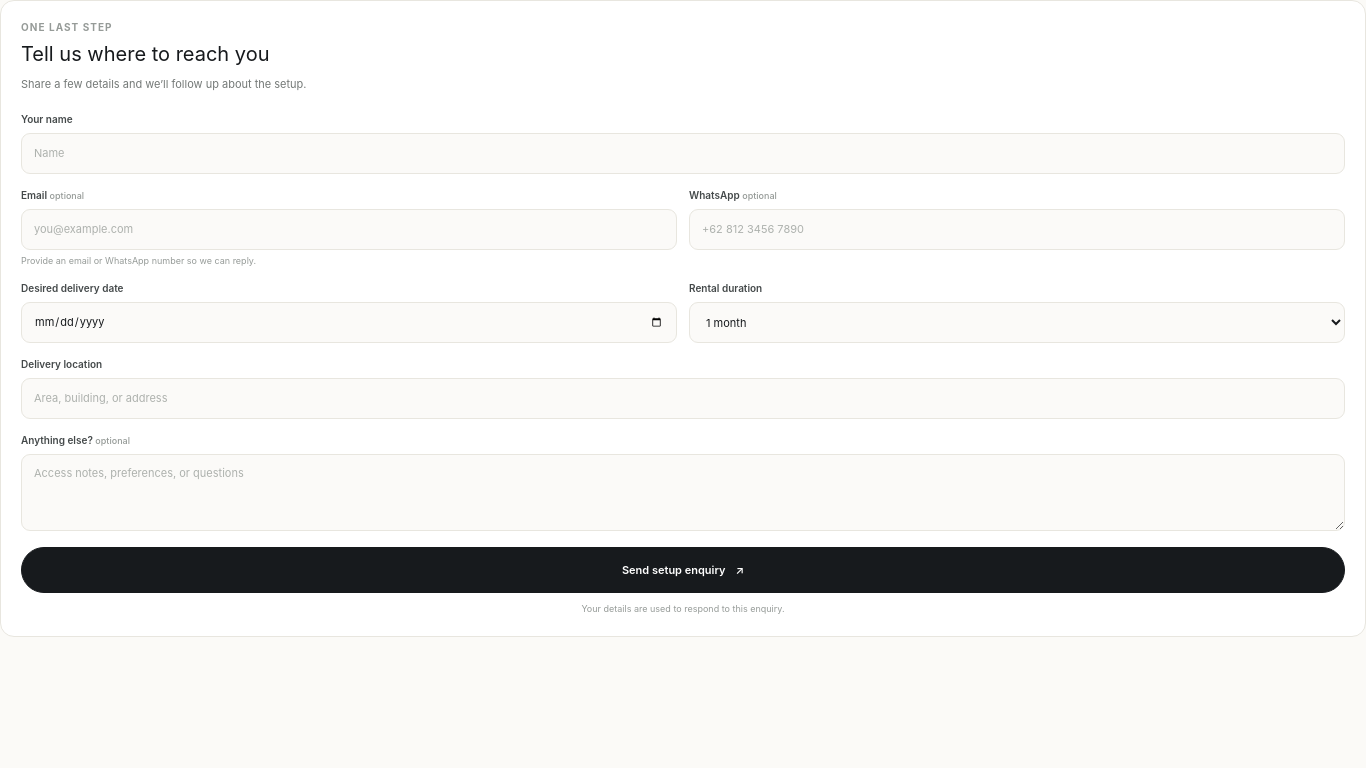
EnquiryForm › sends the enquiry and displays a confirmation
Type "Casey Example" into the field labelled "Your name".
click(683, 153); type("Casey Example")  # box left=21, top=132, right=1345, bottom=174
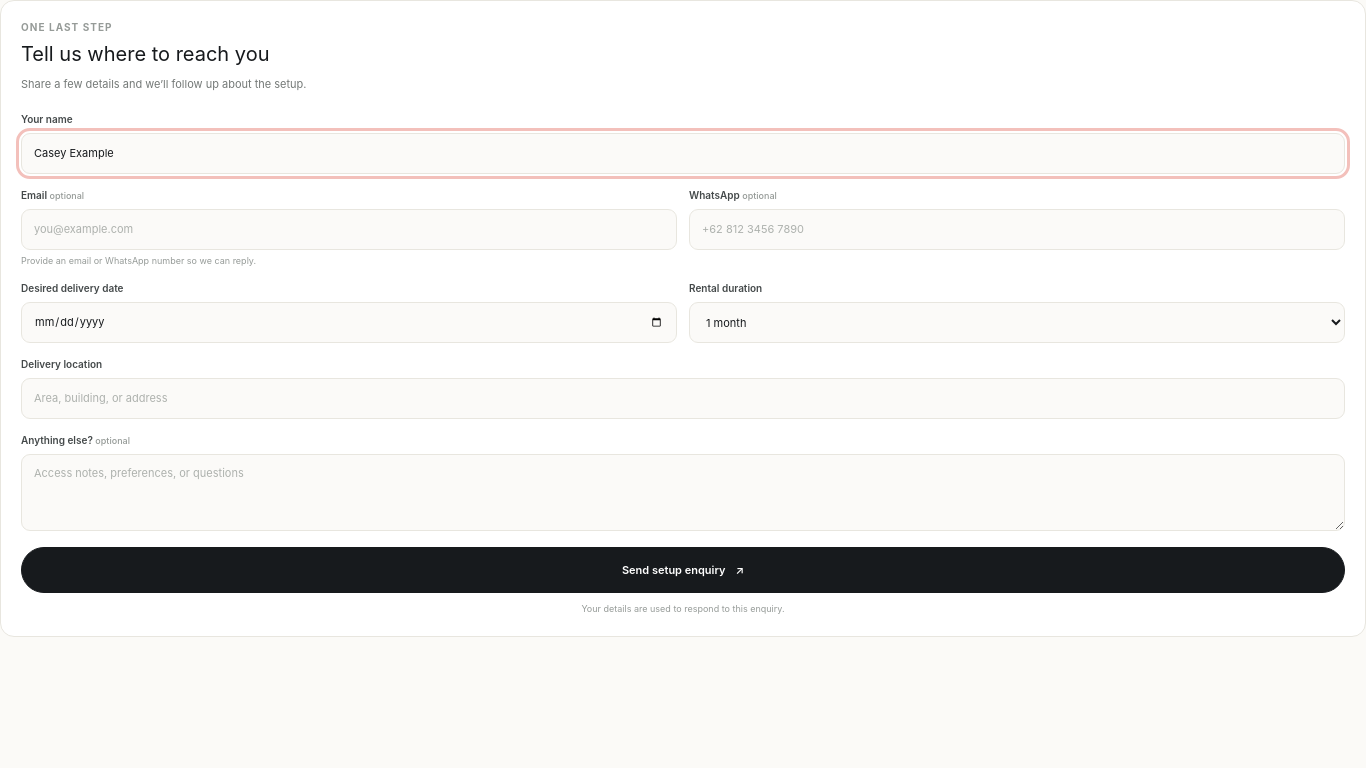
Type "casey@example.com" into the field labelled "Email optional".
click(349, 229); type("casey@example.com")  # box left=21, top=208, right=677, bottom=250
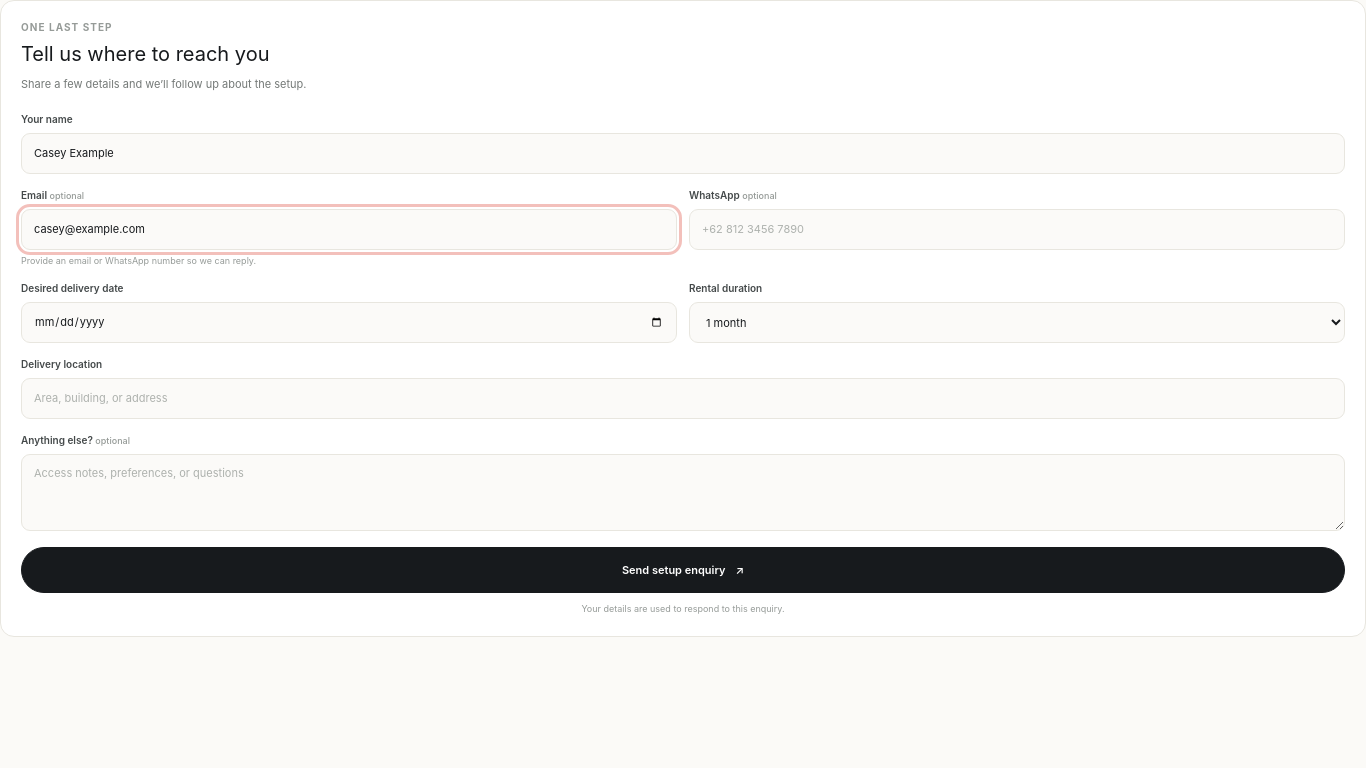
Type "2030-01-10" into the date field labelled "Desired delivery date".
click(349, 322); type("2030-01-10")  # box left=21, top=302, right=677, bottom=343
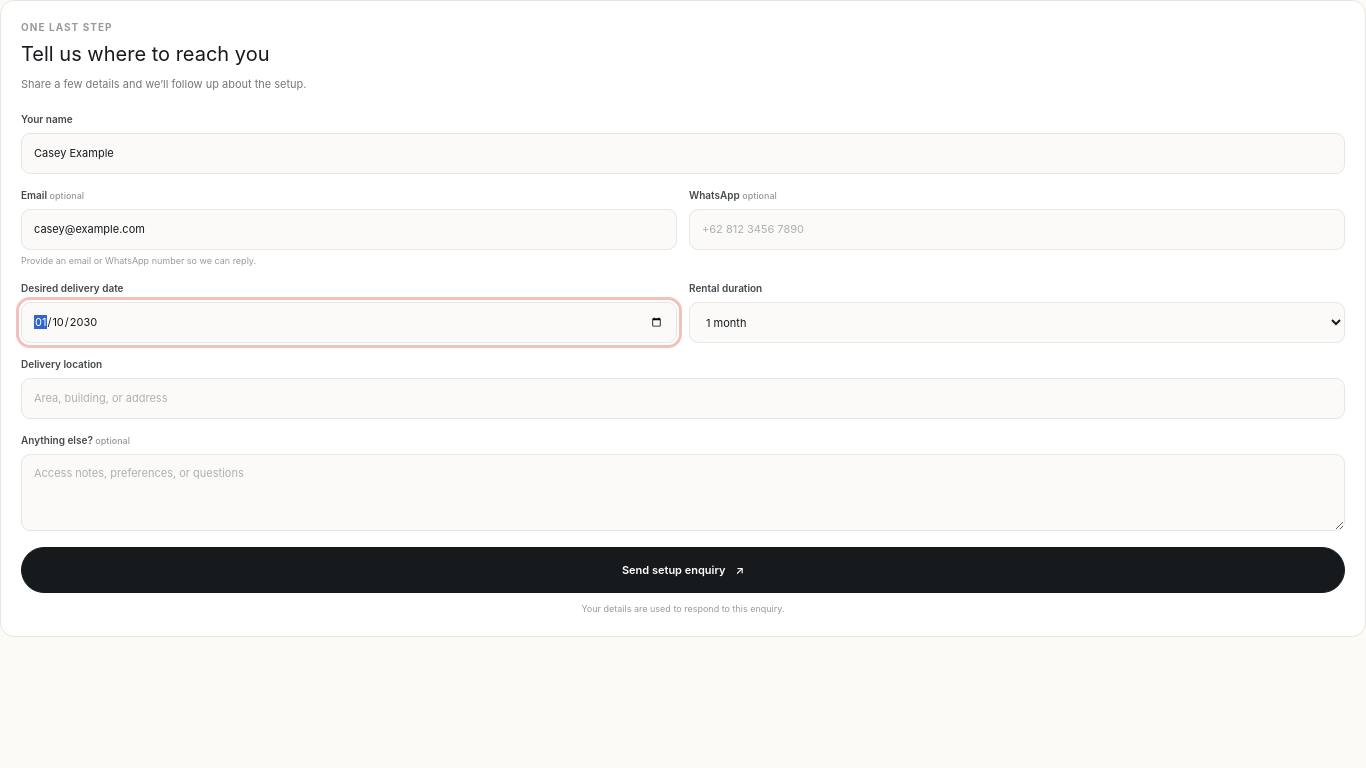
Type "Central district" into the field labelled "Delivery location".
click(683, 398); type("Central district")  # box left=21, top=378, right=1345, bottom=419
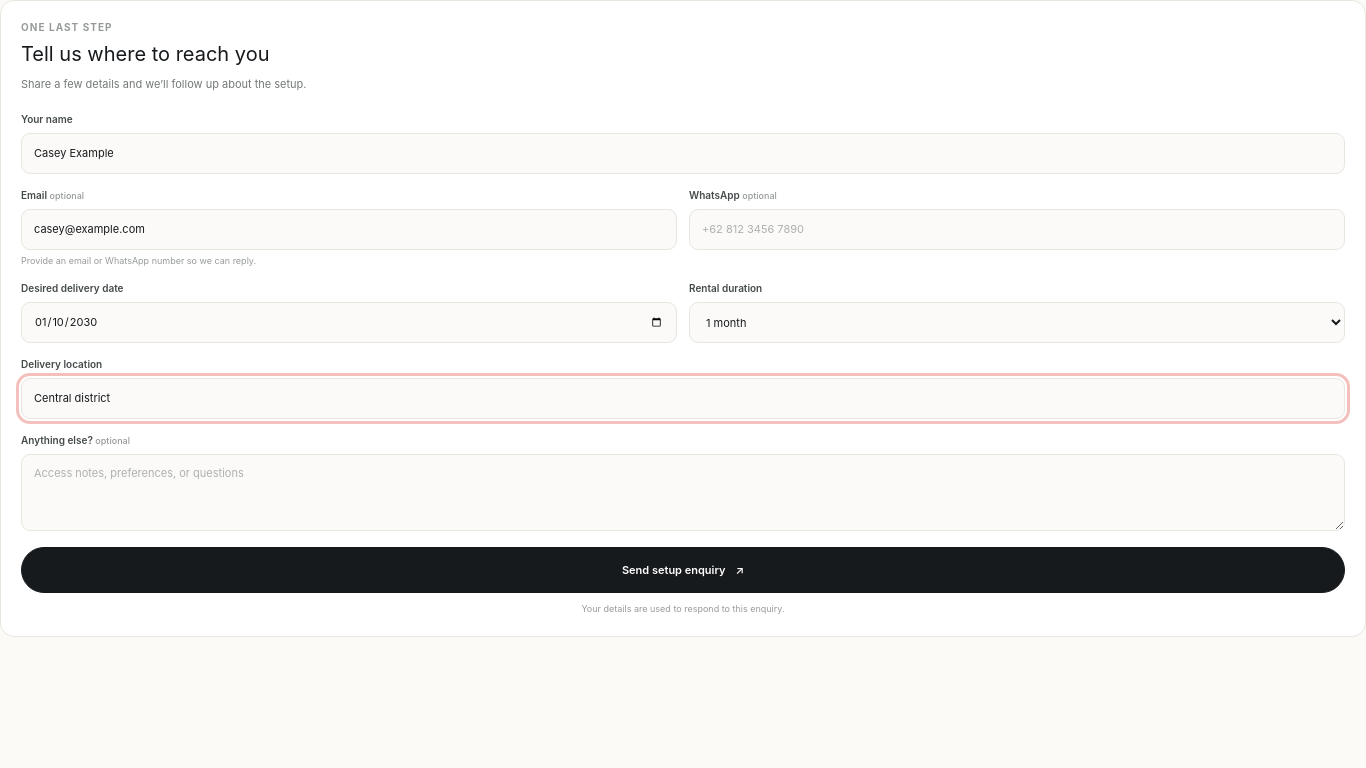
Click the button "Send setup enquiry ↗".
click(683, 570)  # box left=21, top=547, right=1345, bottom=593
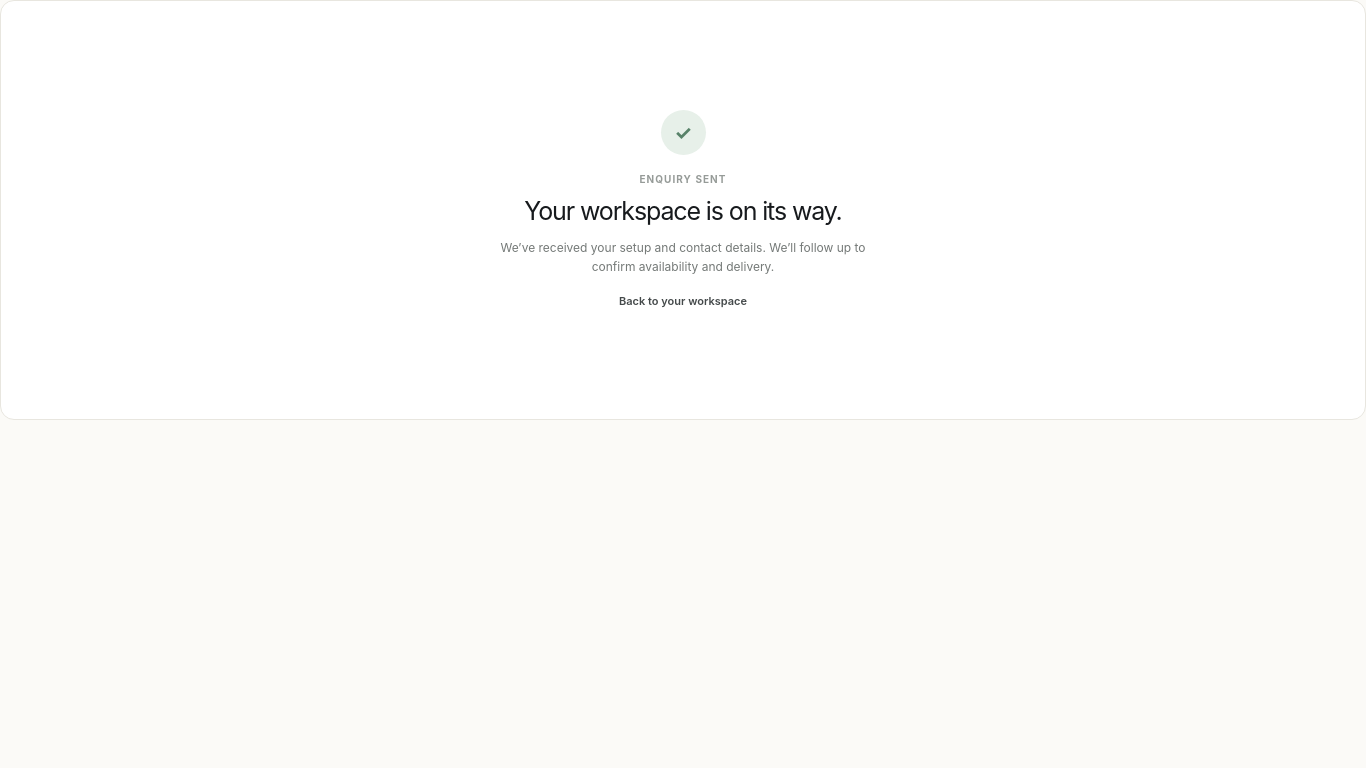
expect the heading "Your workspace is on its way." is shown: met, box left=524, top=193, right=842, bottom=231
